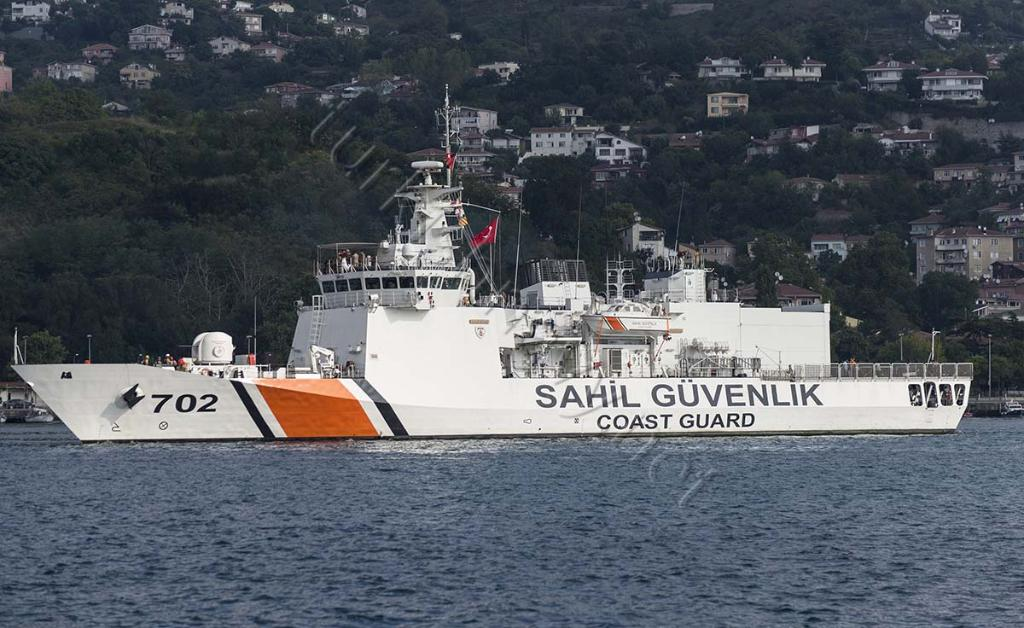Warship: (8, 134, 986, 442)
